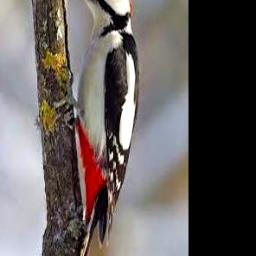Woodpecker: (59, 0, 140, 256)
